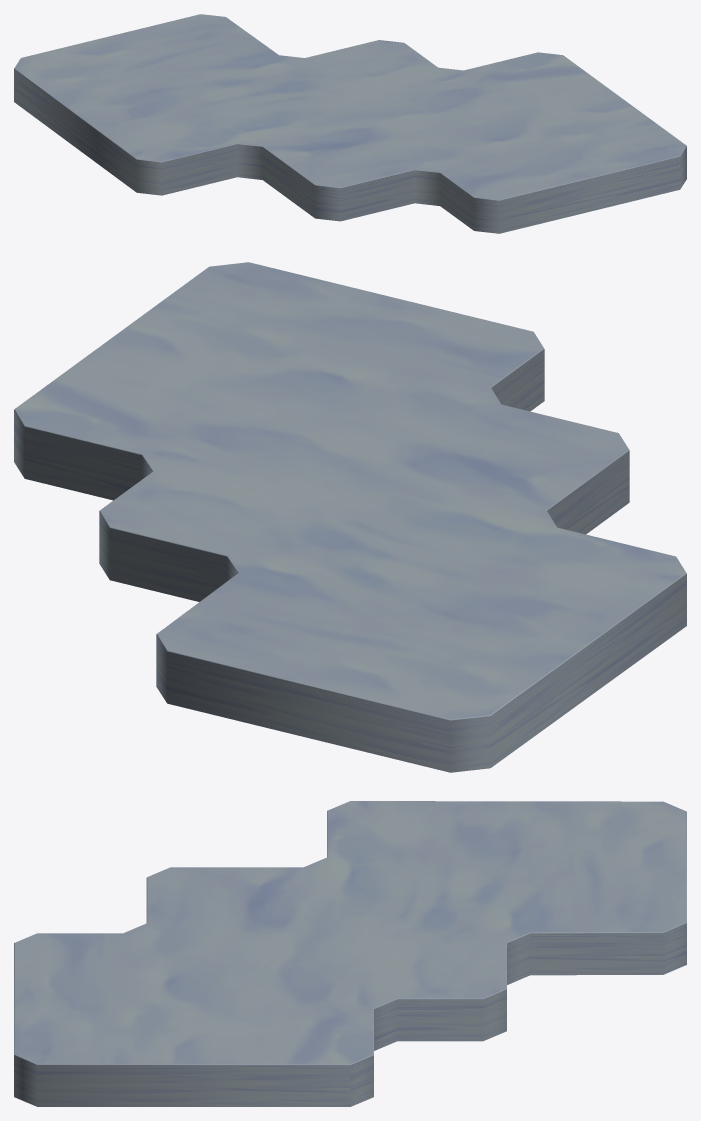
File: square-times-three.glb
3 renders of one model, top to bottom at view 1: azimuth 30°, elevation 25°; view 2: azimuth 150°, elevation 25°; view 3: azimuth 270°, elevation 25°, orthographic. The views are drawn at different scales.
Visible parts, largest first — view 1: geometry_0; view 2: geometry_0; view 3: geometry_0.
Part boxes in pixels (x1=…): geometry_0: x1=14, y1=14, x2=686, y2=233; geometry_0: x1=14, y1=262, x2=686, y2=772; geometry_0: x1=14, y1=801, x2=686, y2=1106.
Size of the model in its own units: 79.87 by 6 by 86.13.
1 material, 1 textured.
